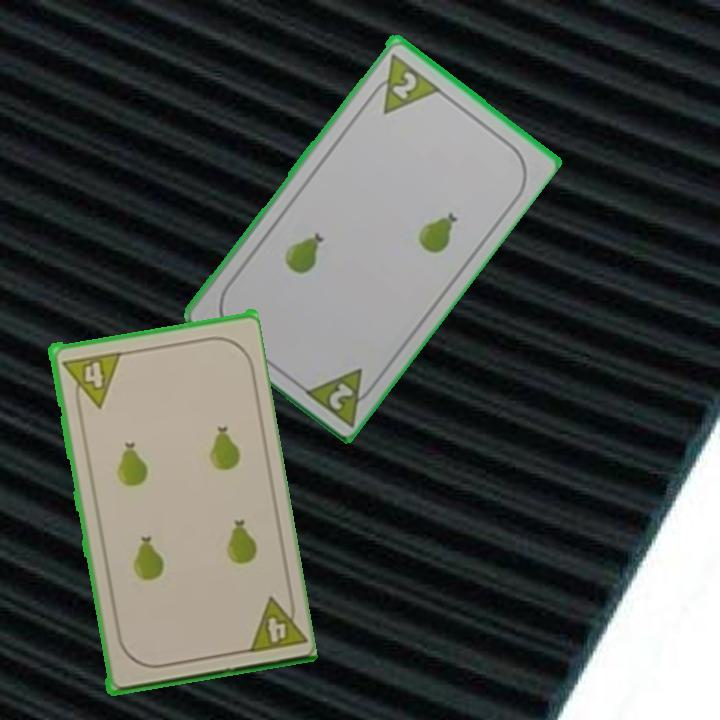2p: (364, 49, 442, 117), (325, 378, 357, 413)
4p: (241, 589, 306, 656), (58, 348, 123, 412)
